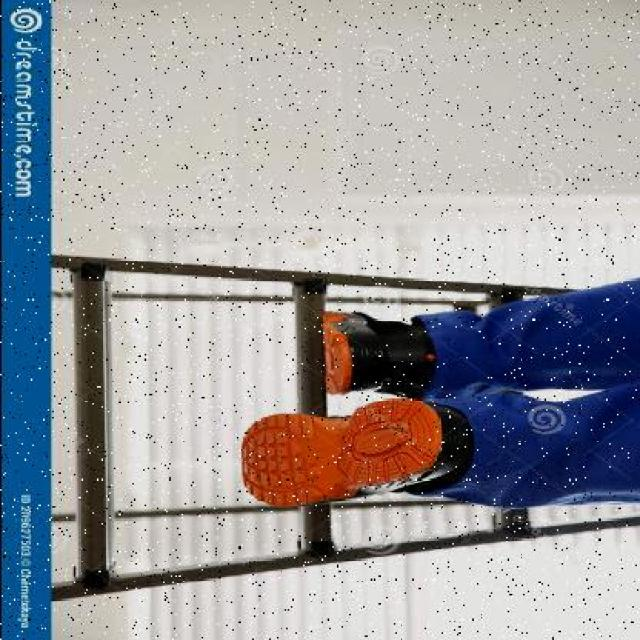shoes: (225, 400, 447, 512), (319, 321, 435, 404)
